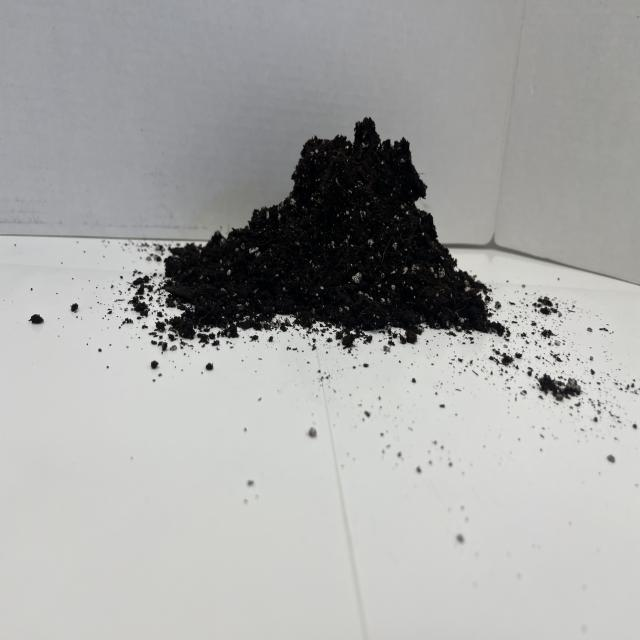soil: (161, 113, 504, 340)
